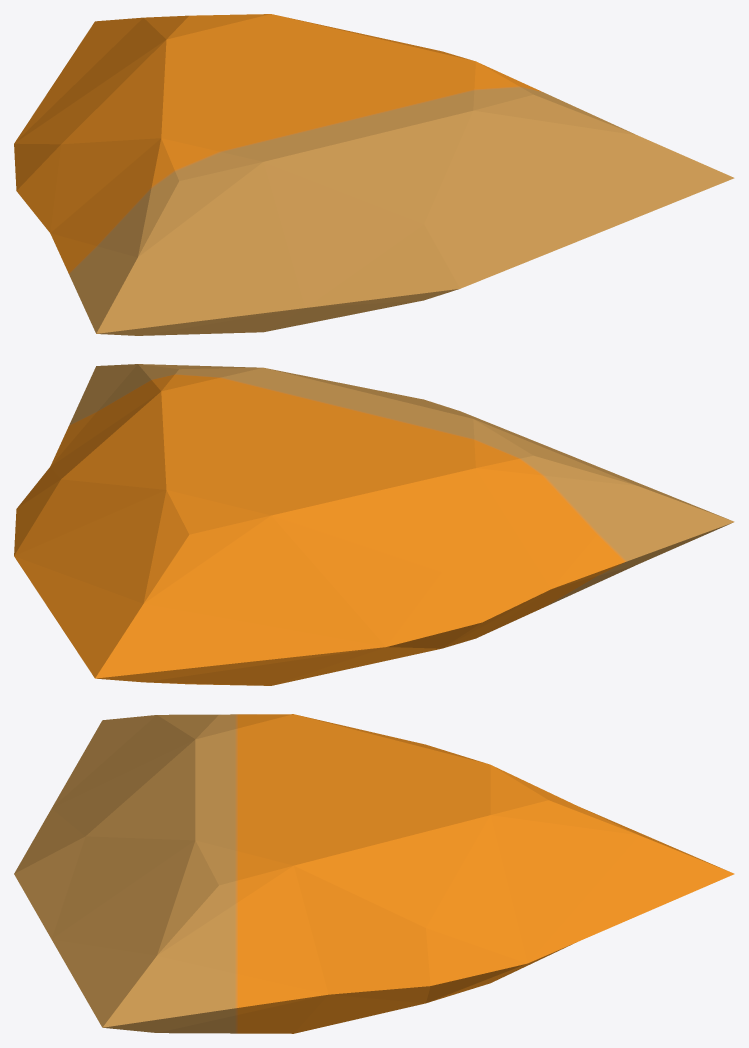
File: vGem2_New.fbx
The picture shows the model from 3 angles, top to bottom: view 1: azimuth 30°, elevation 25°; view 2: azimuth 150°, elevation 25°; view 3: azimuth 270°, elevation 25°; orthographic projection.
Visible parts, largest first — view 1: pPlane6; view 2: pPlane6; view 3: pPlane6.
Part boxes in pixels (<box>): pPlane6: <box>14,14,734,335</box>; pPlane6: <box>14,364,734,685</box>; pPlane6: <box>14,714,734,1033</box>.
Bounding box in the file's own units: 0.9677 × 0.2468 × 0.9587.
